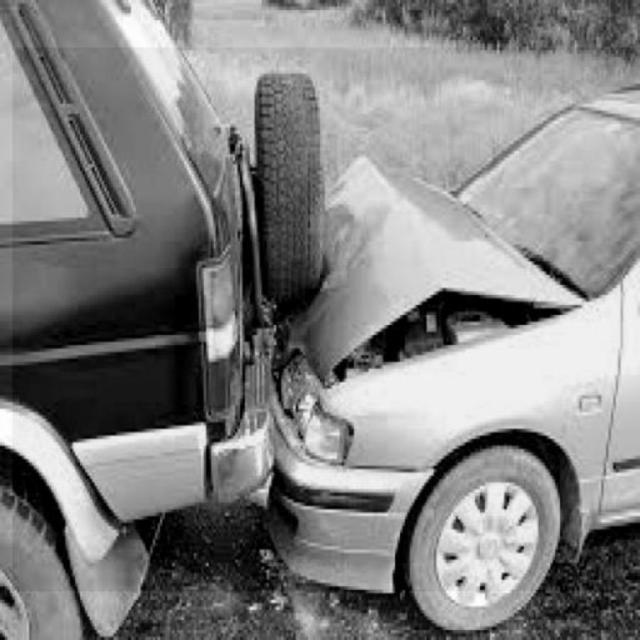accident: (13, 48, 640, 592)
